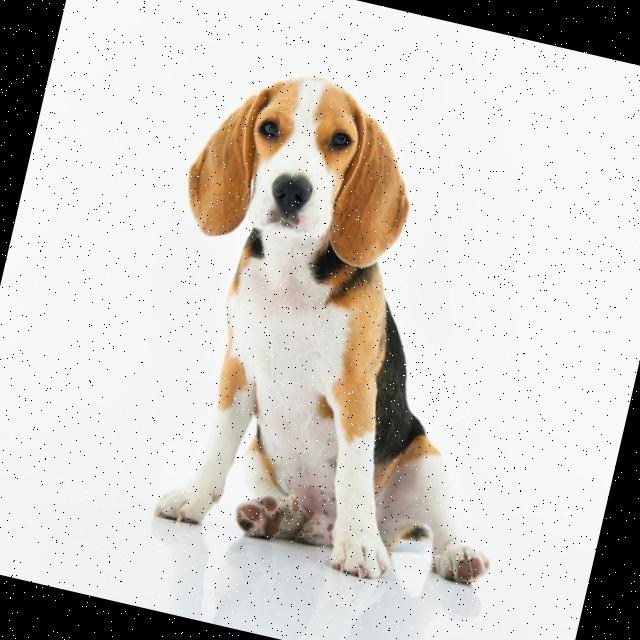Dog: (110, 52, 590, 605)
